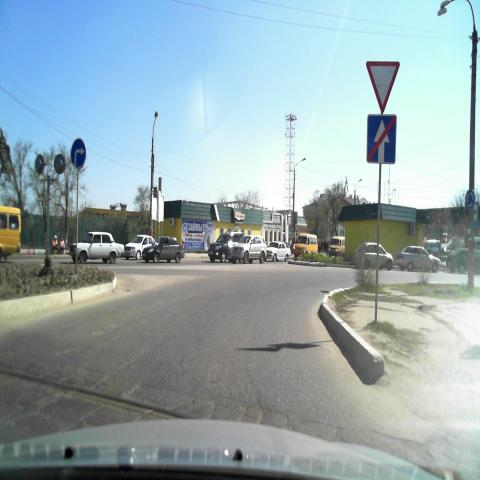2_4: (366, 59, 400, 112)
4_1_2: (71, 138, 86, 172)
4_3: (464, 188, 474, 206)
5_6: (366, 114, 396, 163)
